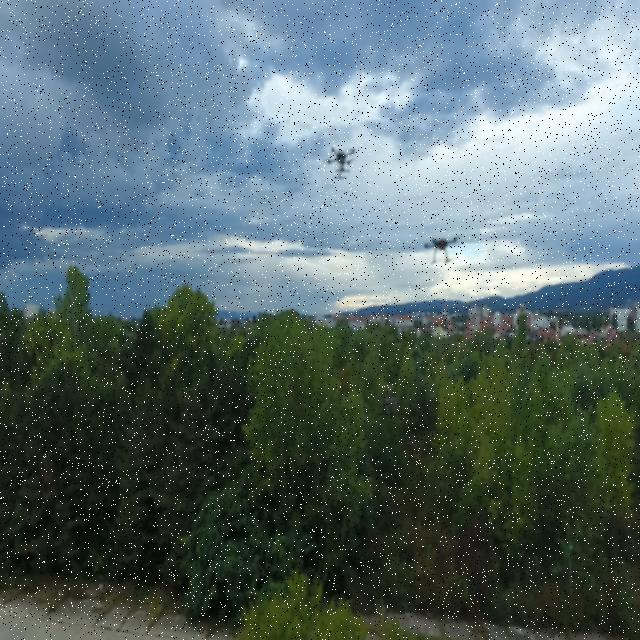UAV: (415, 232, 466, 266), (323, 140, 359, 184)
